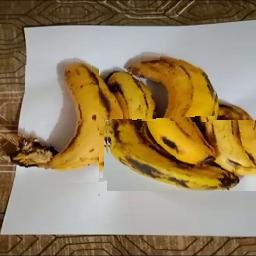Banana Semifresh: (25, 58, 126, 187), (132, 43, 220, 166), (107, 120, 256, 191), (100, 58, 158, 178)
